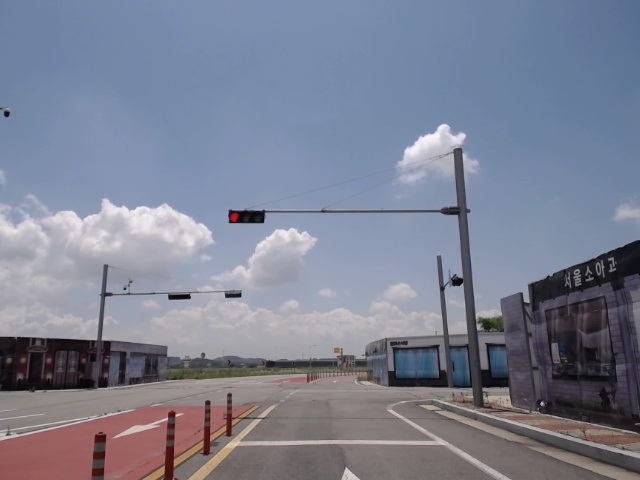red_3: (228, 210, 266, 225)
